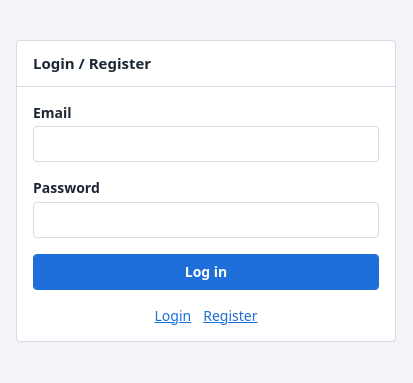
Test: LoginPage › sends no request when the fields are empty
Click the button "Log in": [206, 272] box [33,254,379,290]
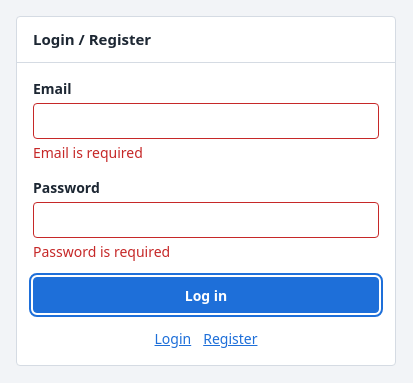
Expected: the text "Email is required" is shown, [33,143,143,162]
Expected: the text "Password is required" is shown, [33,242,170,261]
